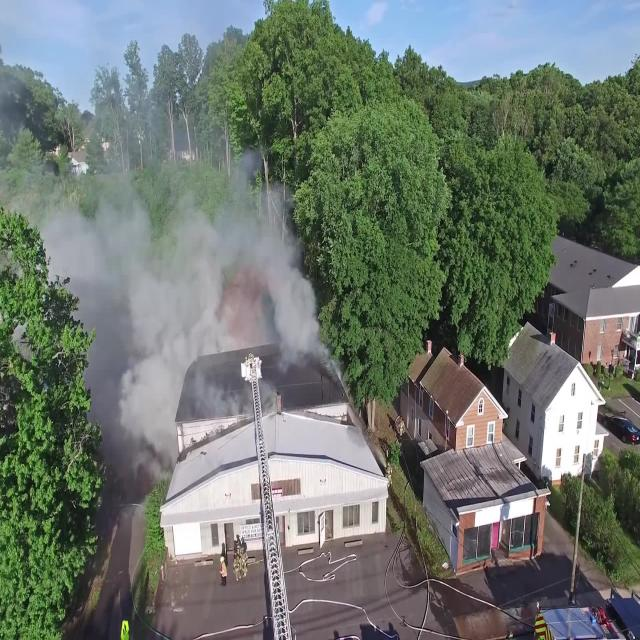Smoke: (15, 158, 334, 446)
